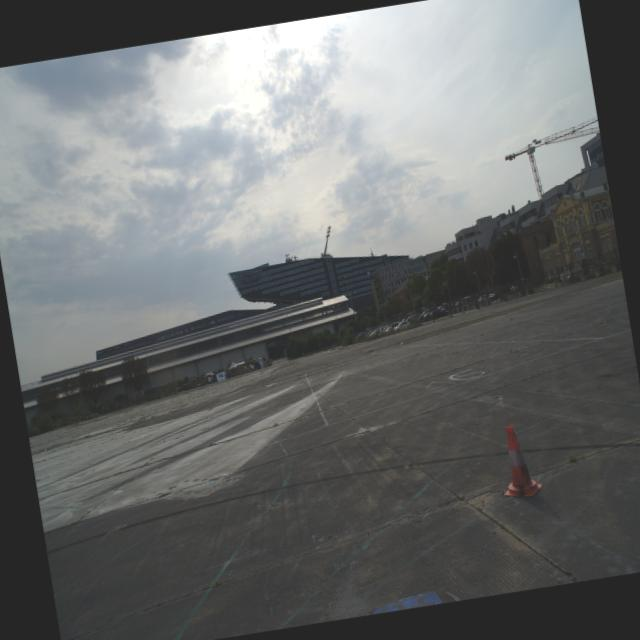orange_cone: (494, 422, 544, 501)
